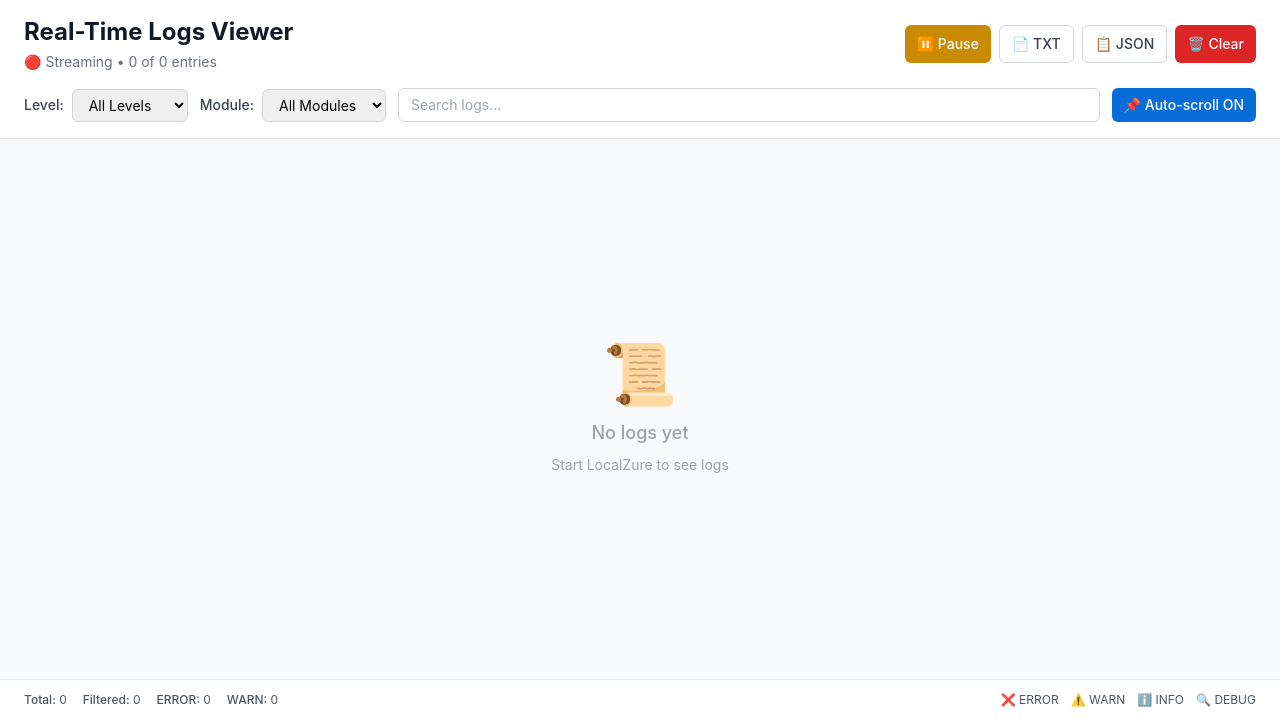
Test: Enhanced Logs Component - DESKTOP-003 › AC1: Real-time log display › shows paused indicator when paused
This screenshot has width=1280, height=720.
Click the button titled "Pause streaming". click: coordinates (948, 44)
box: [905,25,991,63]
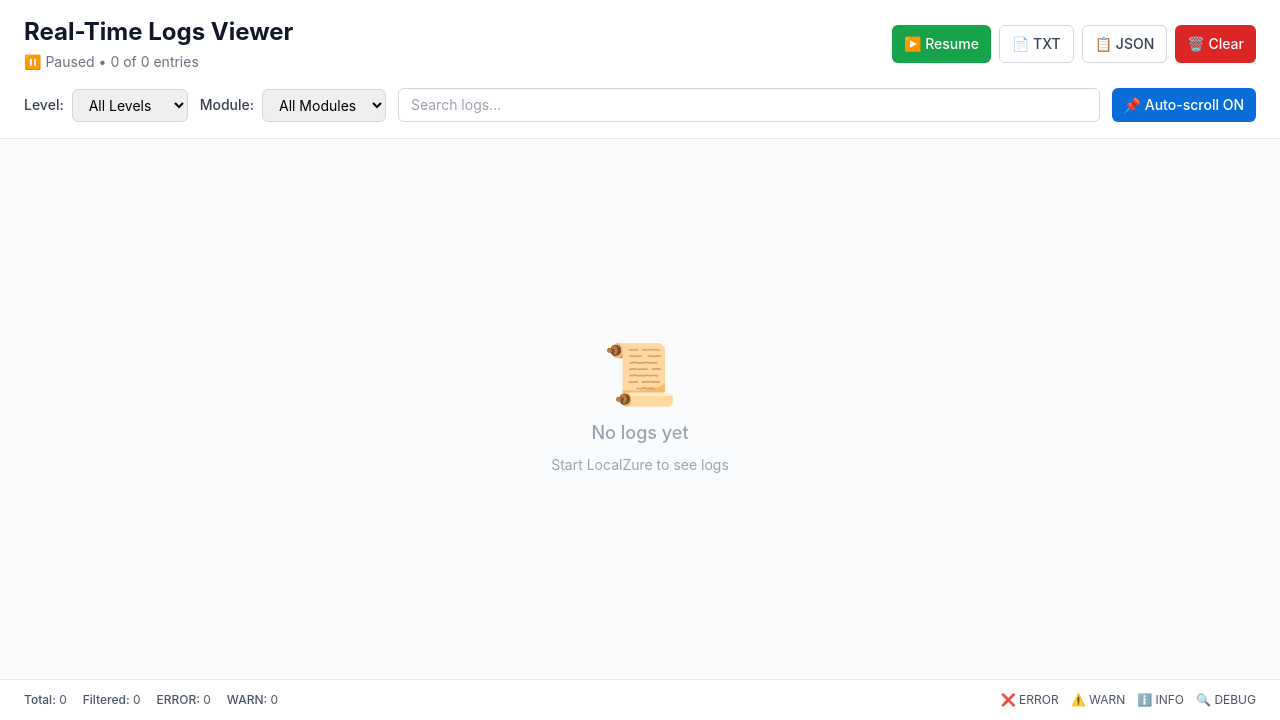
Result: the text "⏸️ Paused • 0 of 0 entries" is shown at [24,53,199,70]
